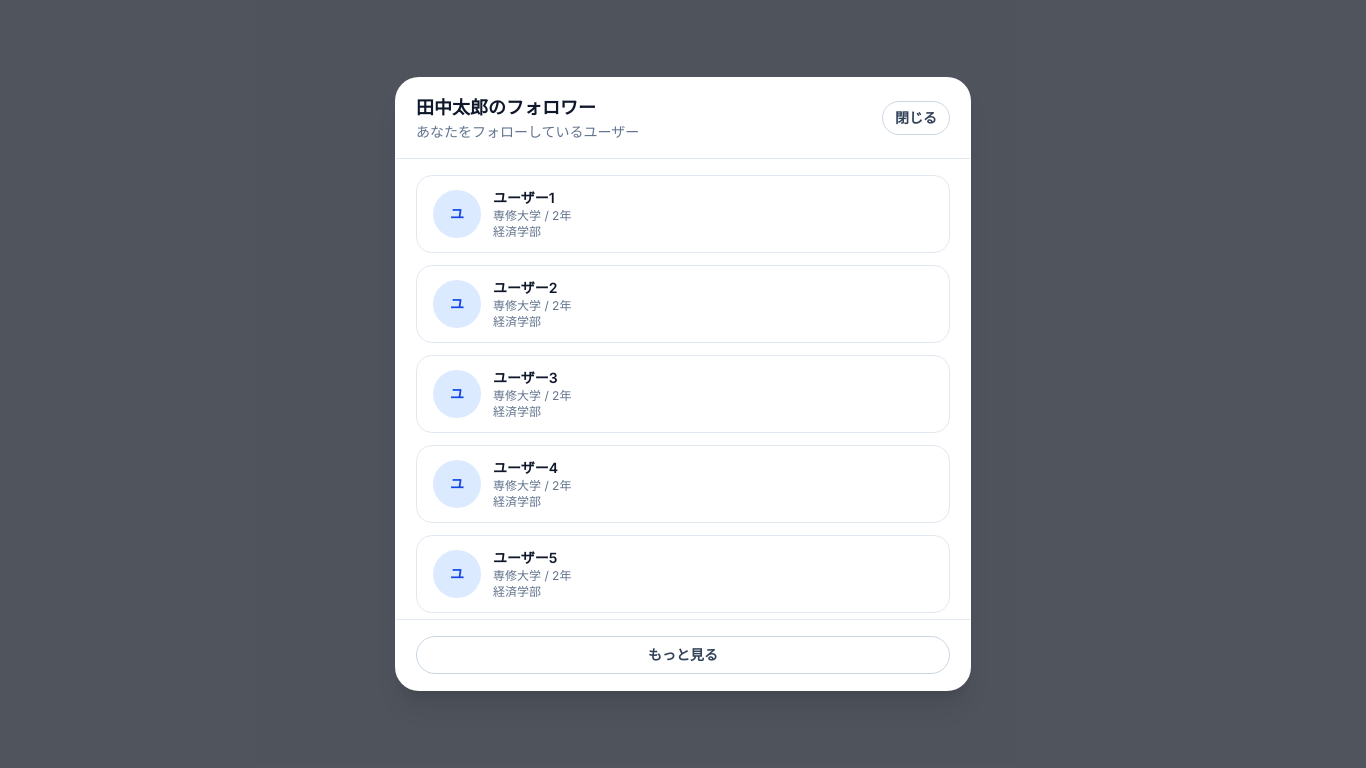
Test case: FollowListModal › loads 20 profiles first and appends more profiles on demand
Check: the text "ユーザー1" is shown, box [493,189,555,206]
Check: the text "ユーザー21" is not shown
What coordinates should you click on to do the following:
click the button "もっと見る"
I would click on:
 (683, 655)
Its box is [416,636,950,674].
(page scrolled)
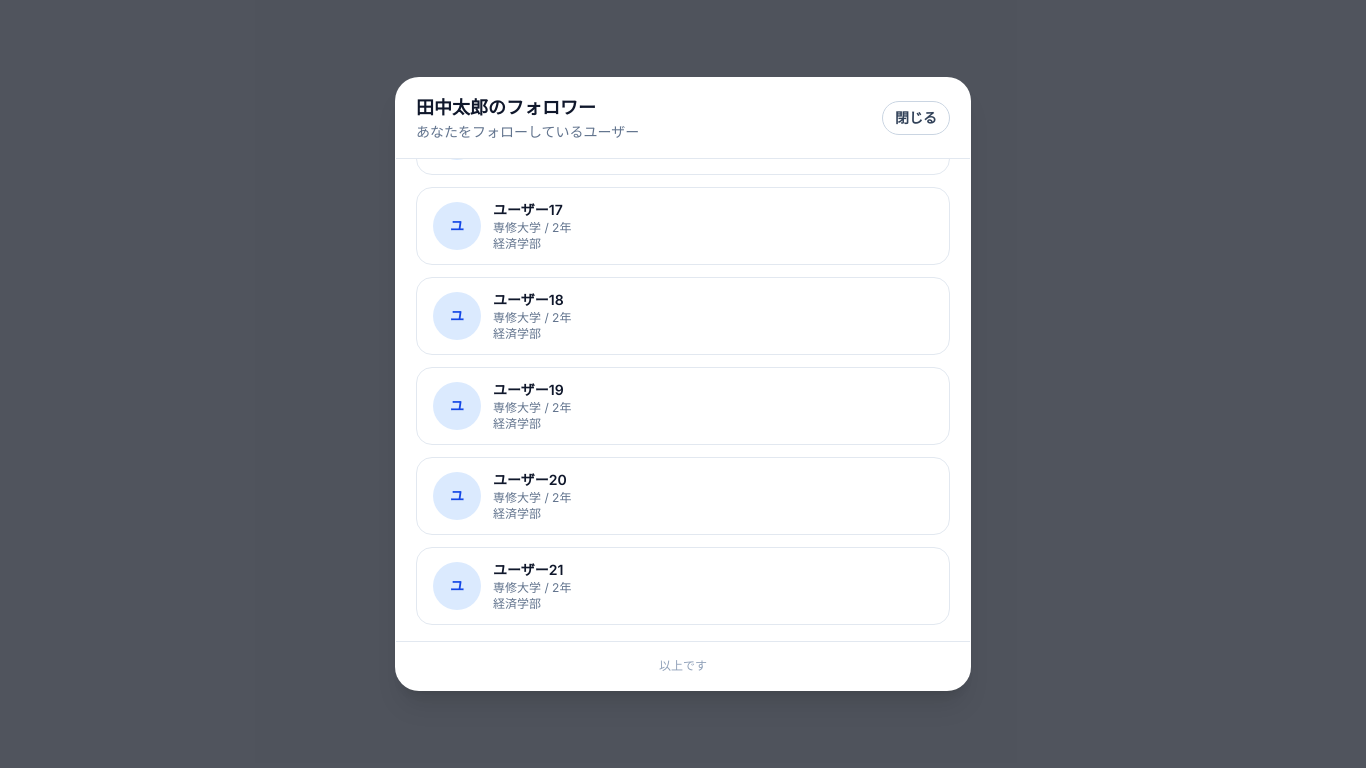
Check: the text "ユーザー21" is shown, box [493,561,563,578]
